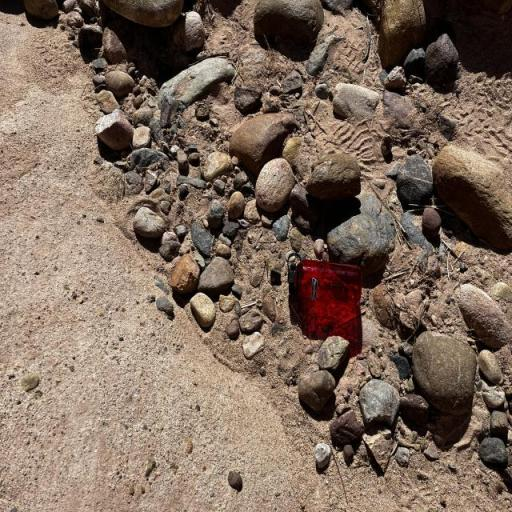bottle: (288, 252, 362, 306)
